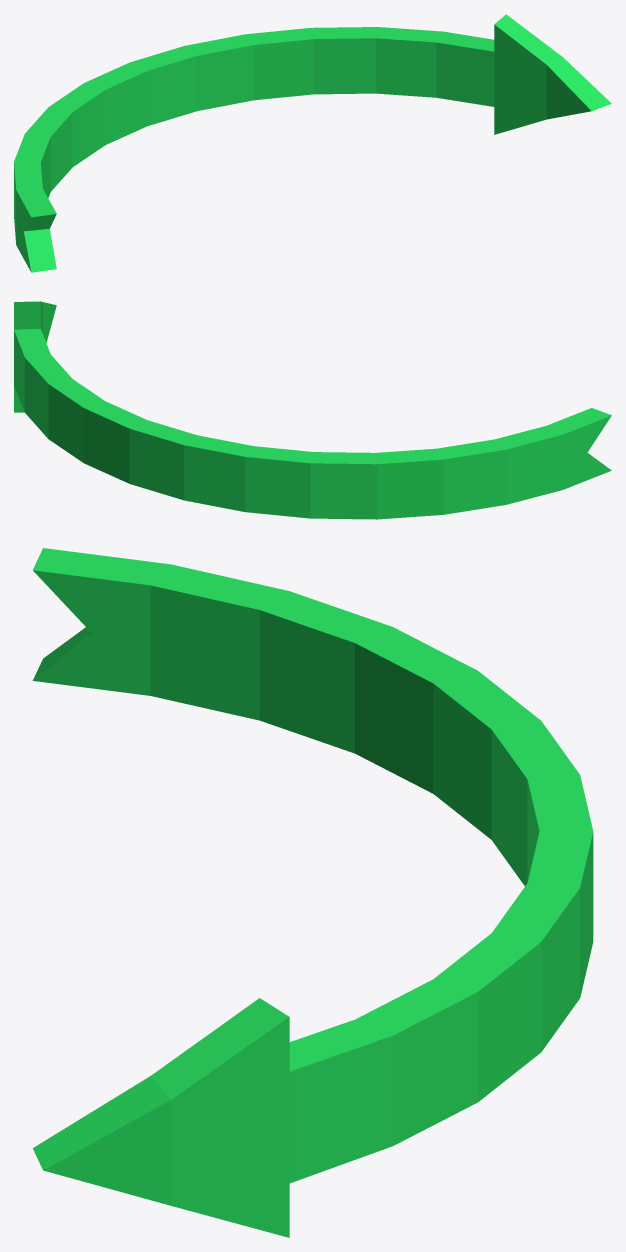
File: arrow2.glb
The picture shows the model from 3 angles, top to bottom: view 1: azimuth 30°, elevation 25°; view 2: azimuth 150°, elevation 25°; view 3: azimuth 270°, elevation 25°; orthographic projection. The views are drawn at different scales.
Parts seen in each view (by area): view 1: 柱体; view 2: 柱体; view 3: 柱体.
Part boxes in pixels (<box>): 柱体: <box>14,14,611,272</box>; 柱体: <box>14,301,611,519</box>; 柱体: <box>32,548,593,1237</box>.
Size of the model in its own units: 7.01 by 1.28 by 2.93.
